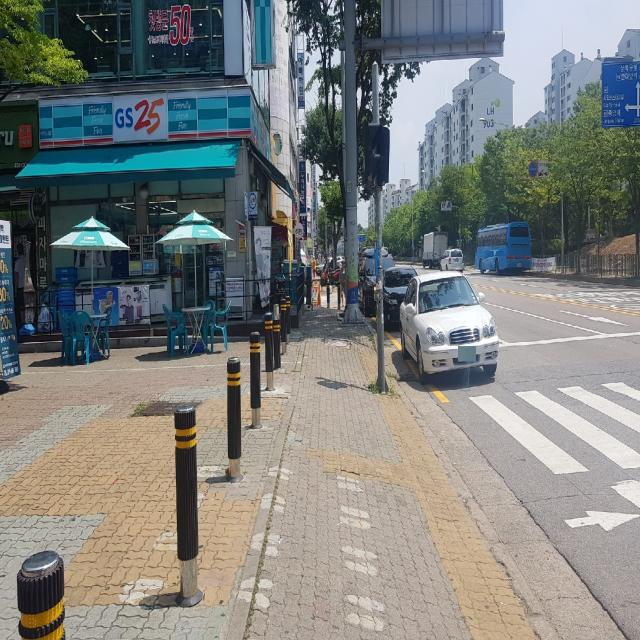횡단보도: (304, 295, 331, 305)
